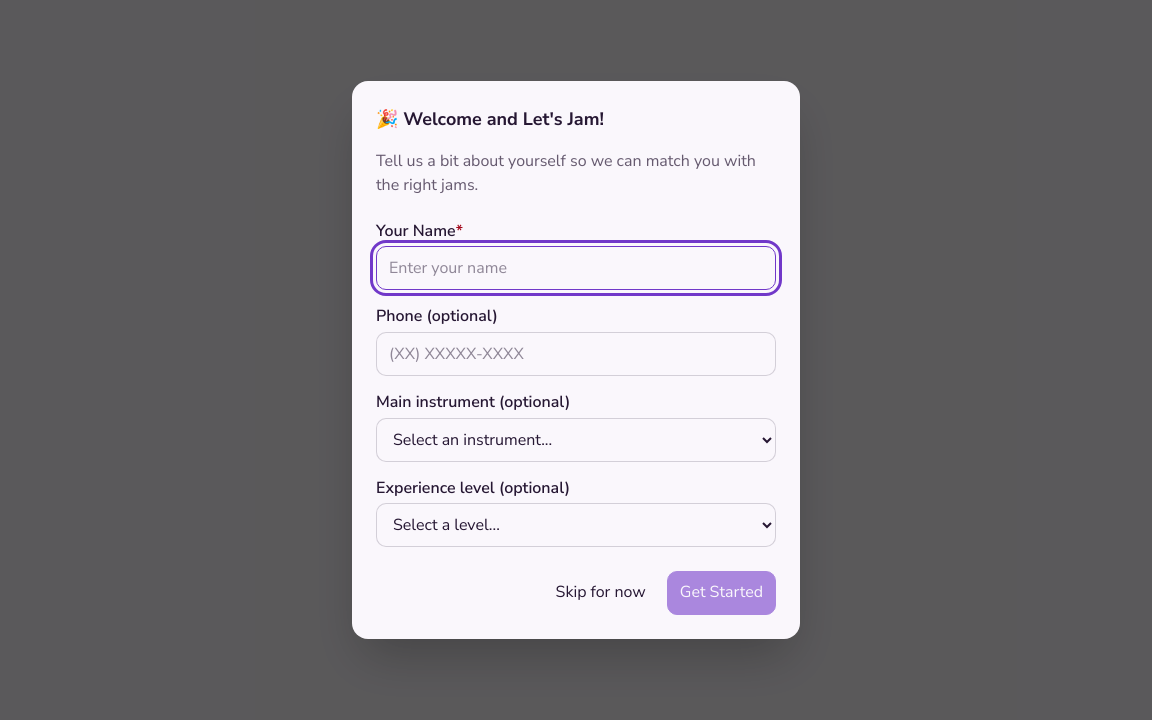
Test: OnboardingModal contact details › renders a localized context error key when profile completion fails
In the field labelled "Your Name *": (576, 268) [376,246,776,290], type "Alex Musician"
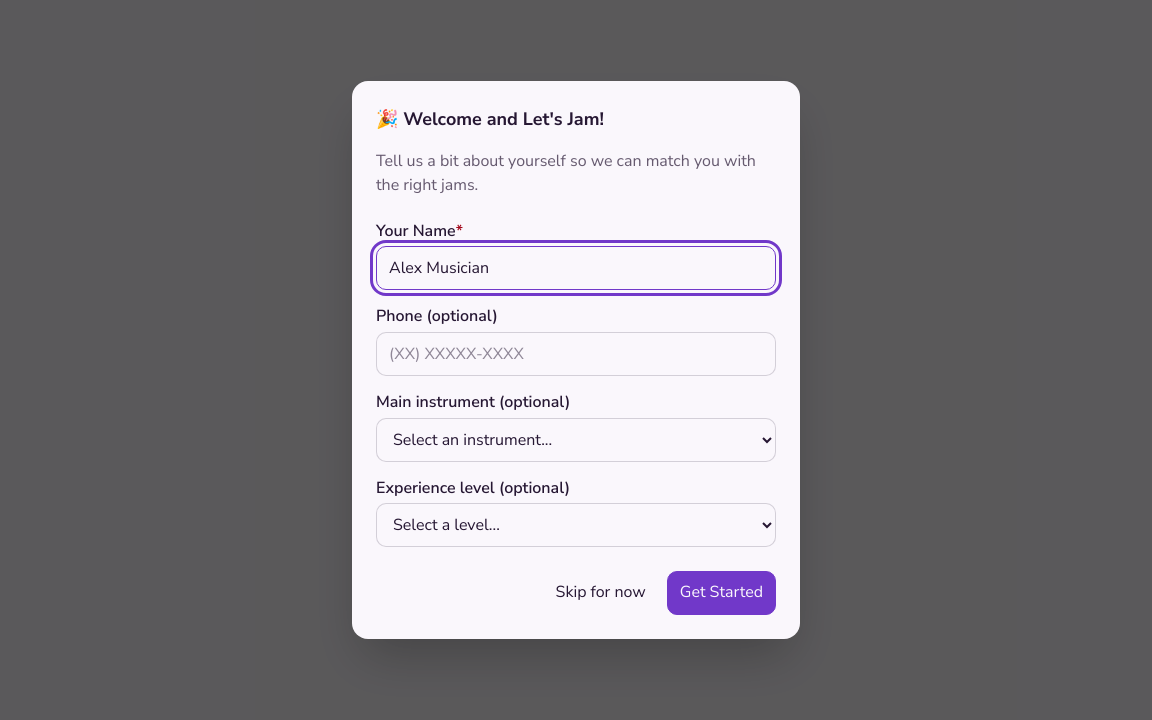
Select "Guitars" in the dropdown labelled "Main instrument (optional)": (576, 440) [376,418,776,462]
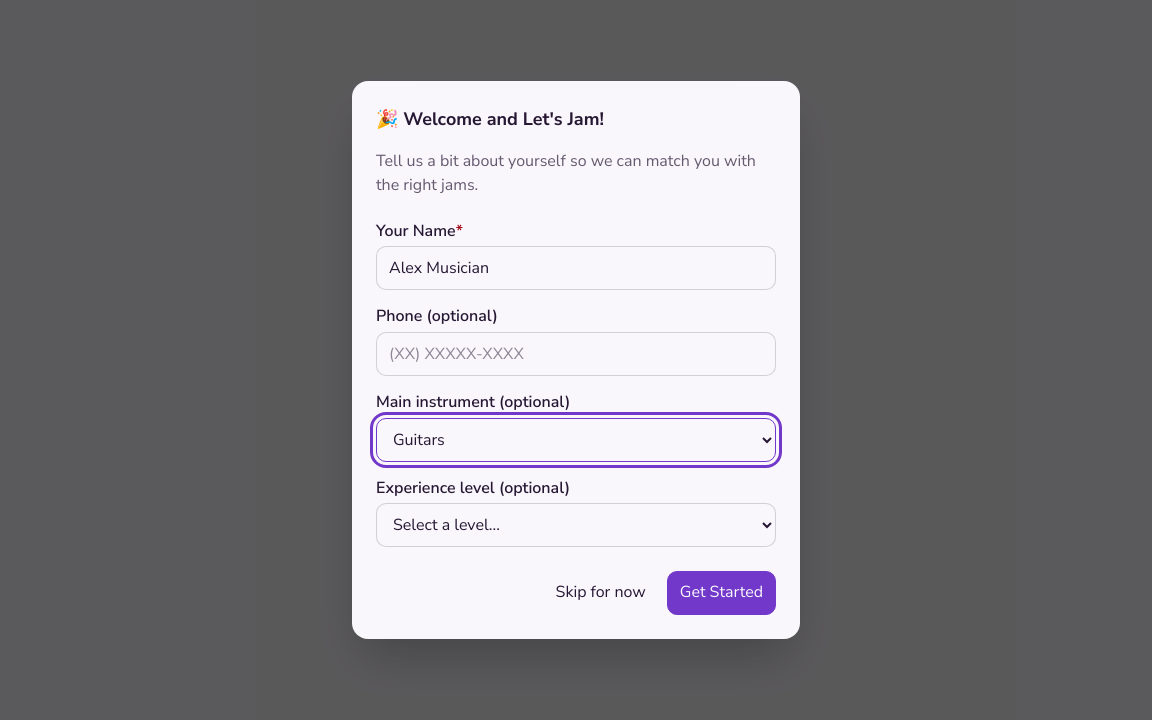
Select "Beginner" in the dropdown labelled "Experience level (optional)": (576, 525) [376,503,776,547]
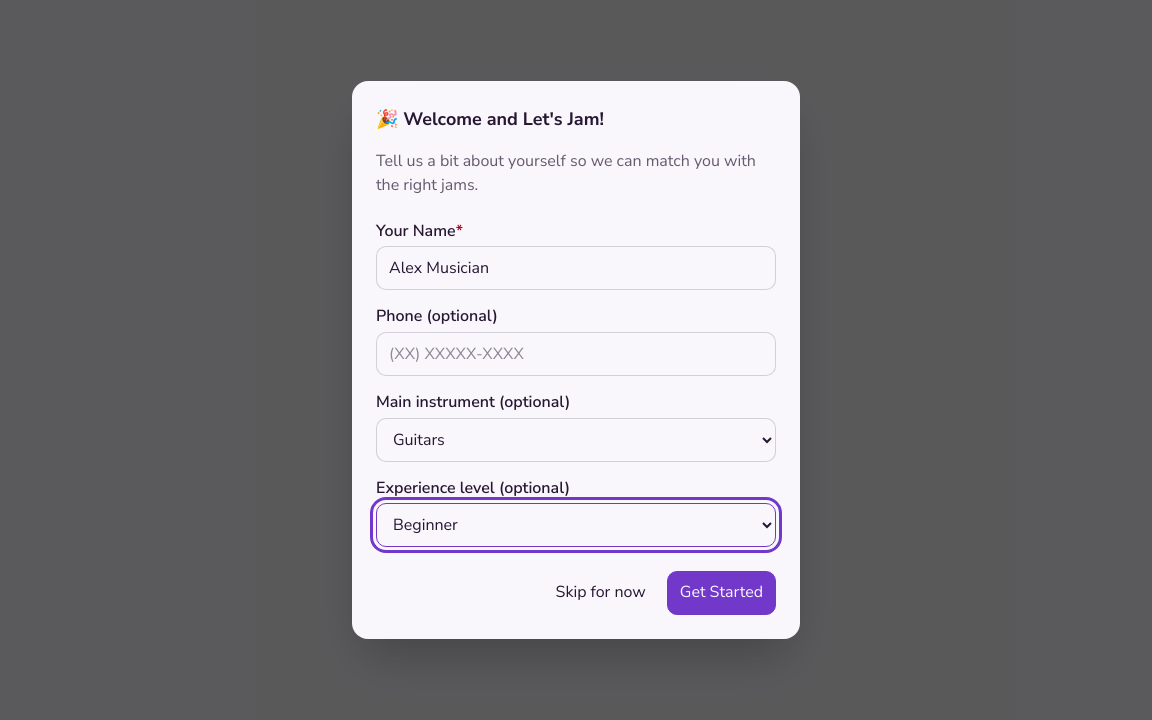
Click the button "Get Started": (721, 593) [667,571,776,615]
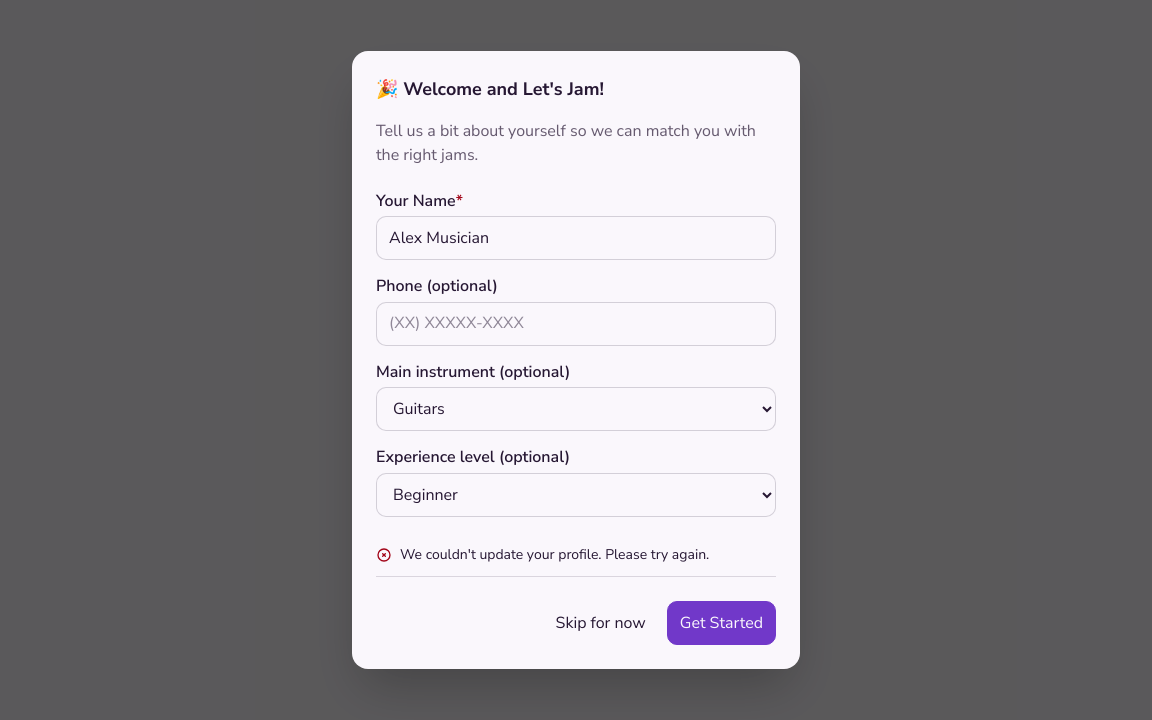
Expected: the message reads "We couldn't update your profile. Please try again.", [400,545,709,564]
